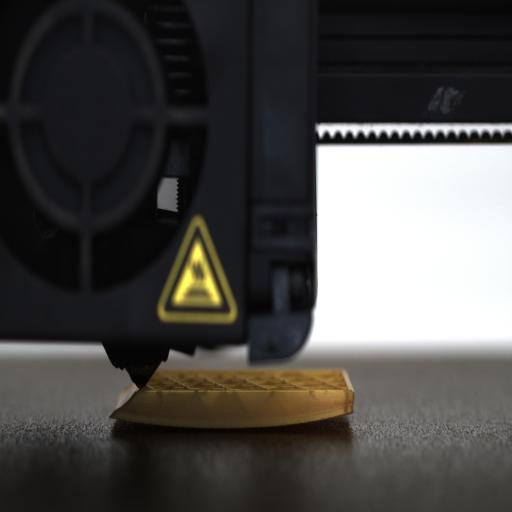warp: (298, 403, 363, 434), (106, 407, 152, 429)
